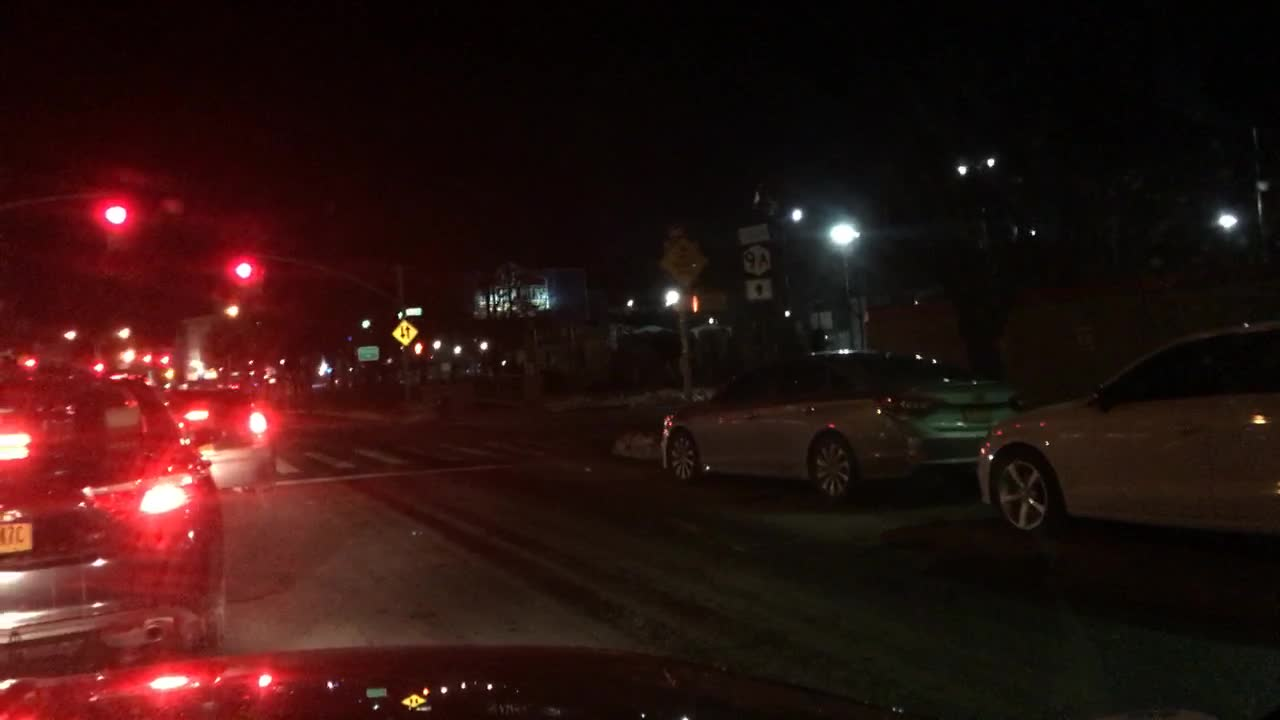car: (0, 348, 226, 678), (974, 317, 1278, 551), (657, 344, 1027, 500), (215, 390, 277, 443), (154, 388, 213, 440), (156, 379, 224, 389)
traffic light: (103, 201, 126, 225), (234, 256, 256, 281), (690, 294, 702, 317), (413, 340, 424, 356)
traffic sign: (658, 238, 708, 283), (392, 321, 417, 344), (356, 344, 380, 362)
